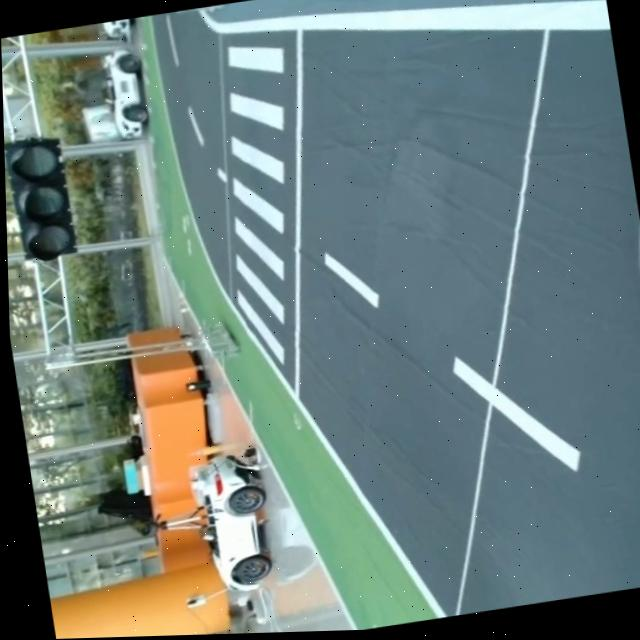traffic-light: (5, 129, 78, 267)
